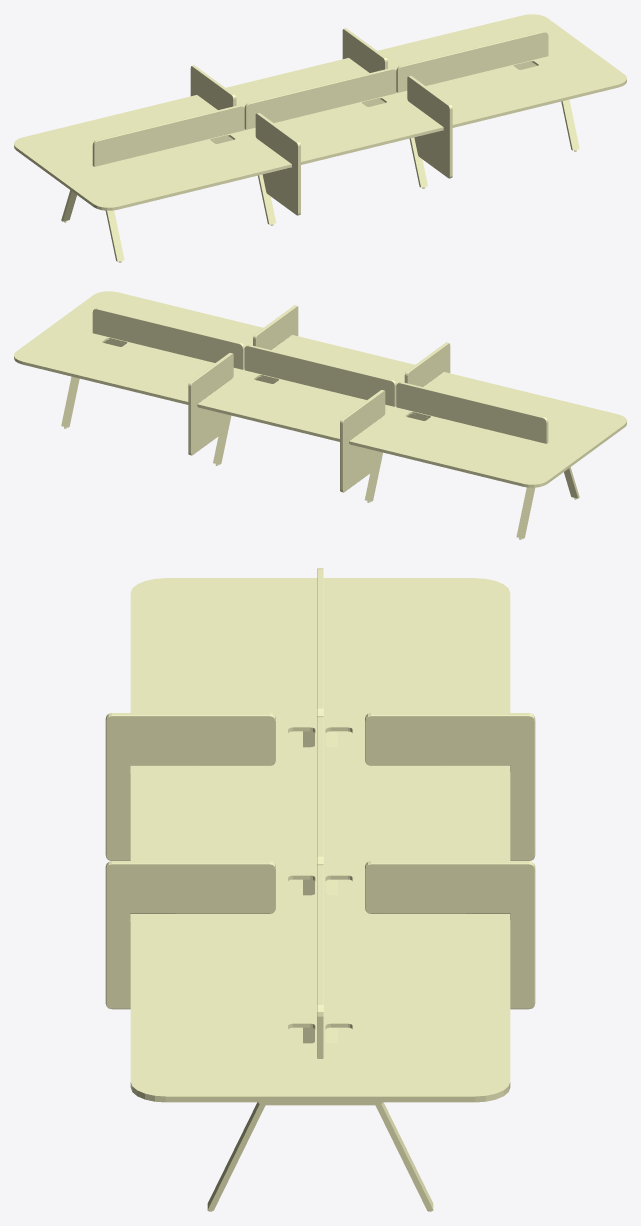
The picture shows the model from 3 angles, top to bottom: view 1: azimuth 30°, elevation 25°; view 2: azimuth 150°, elevation 25°; view 3: azimuth 270°, elevation 25°; orthographic projection. The views are drawn at different scales.
Parts seen in each view (by area): view 1: mesh122_mesh122-geometry, mesh125_mesh125-geometry, mesh121_mesh121-geometry, mesh1_mesh1-geometry, mesh6_mesh6-geometry, mesh127_mesh127-geometry, mesh3_mesh3-geometry, mesh39_mesh39-geometry, mesh99_mesh99-geometry, mesh73_mesh73-geometry, mesh40_mesh40-geometry; view 2: mesh121_mesh121-geometry, mesh125_mesh125-geometry, mesh122_mesh122-geometry, mesh1_mesh1-geometry, mesh3_mesh3-geometry, mesh127_mesh127-geometry, mesh6_mesh6-geometry, mesh39_mesh39-geometry, mesh99_mesh99-geometry, mesh73_mesh73-geometry, mesh40_mesh40-geometry; view 3: mesh121_mesh121-geometry, mesh122_mesh122-geometry, mesh127_mesh127-geometry, mesh1_mesh1-geometry, mesh3_mesh3-geometry, mesh6_mesh6-geometry, mesh125_mesh125-geometry, mesh99_mesh99-geometry, mesh13_mesh13-geometry, mesh23_mesh23-geometry.
Part boxes in pixels (x1,y1,x2,y2): mesh122_mesh122-geometry: (104,63,595,203); mesh125_mesh125-geometry: (92,31,548,166); mesh121_mesh121-geometry: (45,21,521,158); mesh1_mesh1-geometry: (14,14,626,210); mesh6_mesh6-geometry: (255,76,452,215); mesh127_mesh127-geometry: (82,56,558,174); mesh3_mesh3-geometry: (190,28,387,109); mesh39_mesh39-geometry: (61,190,124,261); mesh99_mesh99-geometry: (561,99,579,150); mesh73_mesh73-geometry: (409,137,427,187); mesh40_mesh40-geometry: (258,174,276,224); mesh121_mesh121-geometry: (45,340,536,480); mesh125_mesh125-geometry: (92,308,548,443); mesh122_mesh122-geometry: (119,298,595,435); mesh1_mesh1-geometry: (14,291,626,487); mesh3_mesh3-geometry: (188,353,385,492); mesh127_mesh127-geometry: (82,333,558,451); mesh6_mesh6-geometry: (253,305,450,386); mesh39_mesh39-geometry: (516,467,579,538); mesh99_mesh99-geometry: (61,376,79,427); mesh73_mesh73-geometry: (213,414,231,464); mesh40_mesh40-geometry: (364,451,382,501); mesh121_mesh121-geometry: (364,615,510,1059); mesh122_mesh122-geometry: (130,615,276,1059); mesh127_mesh127-geometry: (276,615,364,1059); mesh1_mesh1-geometry: (130,578,510,1102); mesh3_mesh3-geometry: (365,713,535,1009); mesh6_mesh6-geometry: (105,713,275,1009); mesh125_mesh125-geometry: (317,568,323,1058); mesh99_mesh99-geometry: (207,1102,433,1210); mesh13_mesh13-geometry: (288,879,352,1043); mesh23_mesh23-geometry: (288,731,352,747).
Bounding box in the file's own units: 0.9304 × 0.1684 × 0.3257.
